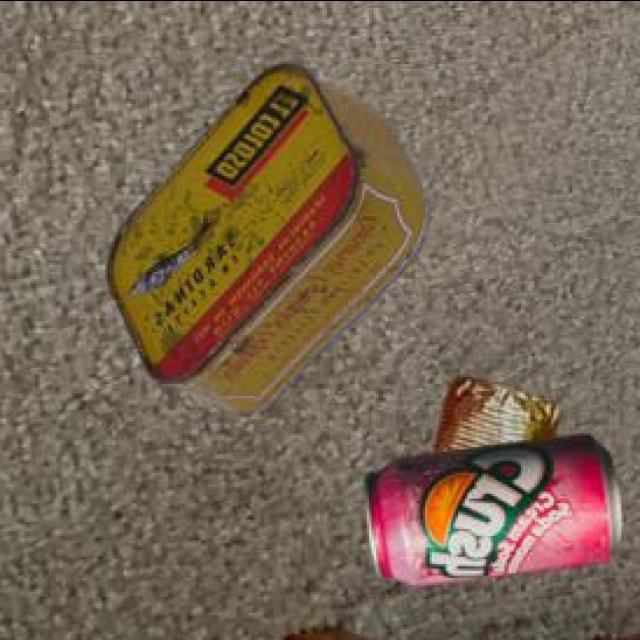logam: (111, 67, 431, 417), (368, 438, 625, 590), (438, 380, 562, 457)
